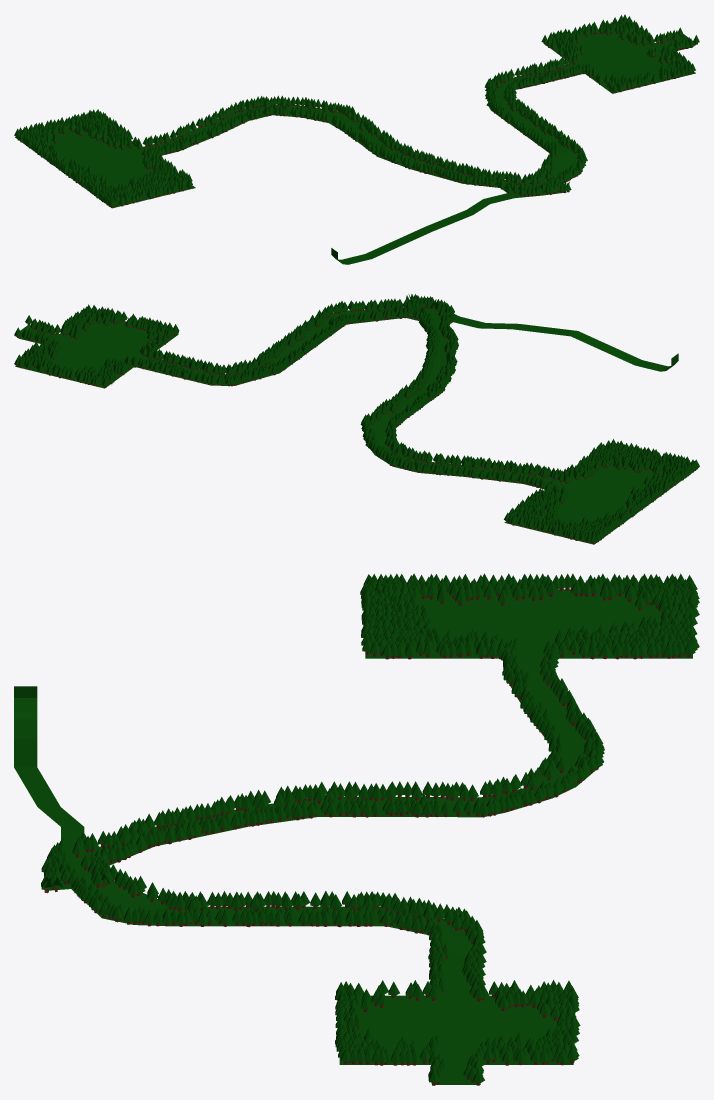
File: Map Prototype v4.glb
3 views of the same model, one above another, from view 1: azimuth 30°, elevation 25°; view 2: azimuth 150°, elevation 25°; view 3: azimuth 270°, elevation 25° (orthographic). The views are drawn at different scales.
Visible parts, largest first — view 1: Plane, Plane.001; view 2: Plane, Plane.001; view 3: Plane, Plane.001.
Boxes of the visible parts, x1=… form: Plane: x1=14, y1=95, x2=571, y2=264; Plane.001: x1=484, y1=14, x2=699, y2=193; Plane: x1=360, y1=294, x2=699, y2=544; Plane.001: x1=14, y1=297, x2=436, y2=388; Plane: x1=14, y1=573, x2=699, y2=893; Plane.001: x1=50, y1=851, x2=580, y2=1085.
Size of the model in its own units: 153 by 6.12 by 87.88.
